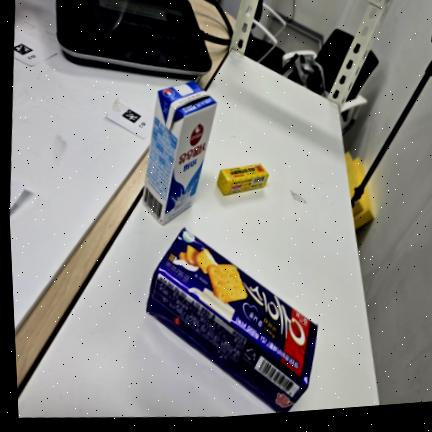cracker_ace: (147, 228, 317, 413)
gum_yellow: (217, 163, 268, 195)
milk_blue: (142, 81, 217, 224)
